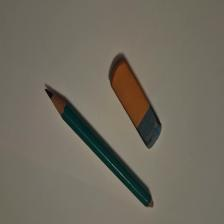eraser: (111, 60, 163, 151)
pencil: (46, 89, 154, 209)
